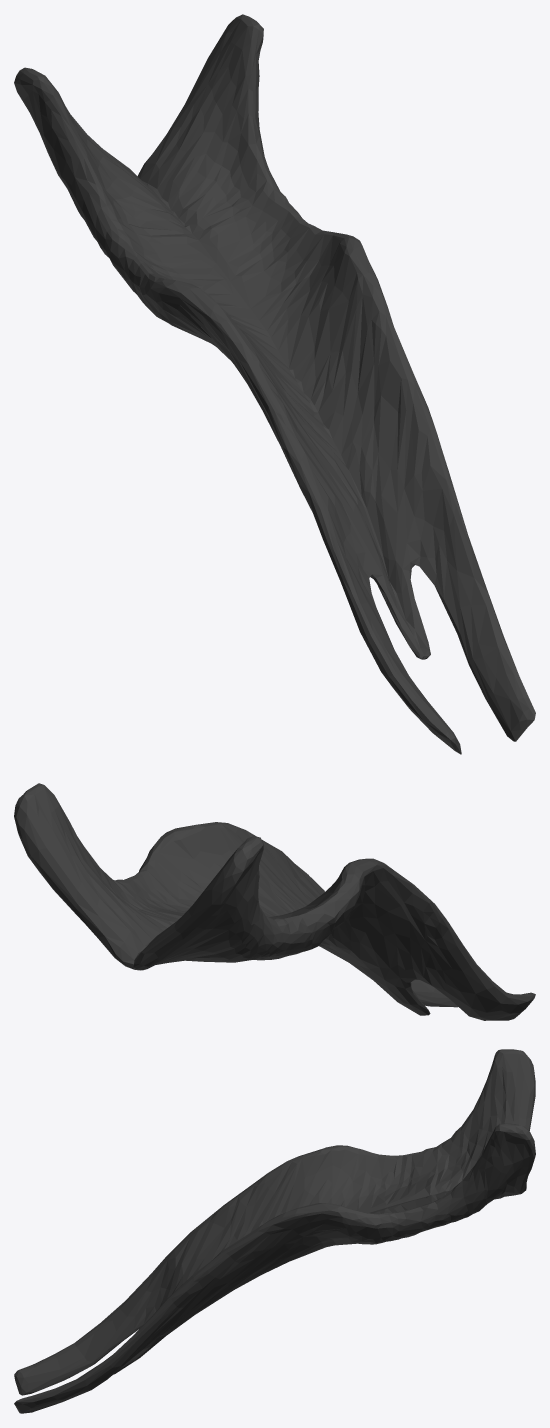
The model's file is m_rhomboideus.glb.
The picture shows the model from 3 angles, top to bottom: view 1: azimuth 30°, elevation 25°; view 2: azimuth 150°, elevation 25°; view 3: azimuth 270°, elevation 25°; orthographic projection. The views are drawn at different scales.
Parts seen in each view (by area): view 1: m_rhomboideus; view 2: m_rhomboideus; view 3: m_rhomboideus.
Boxes of the visible parts, left/top/right/bottom form: m_rhomboideus: left=14, top=14, right=535, bottom=754; m_rhomboideus: left=14, top=783, right=535, bottom=1020; m_rhomboideus: left=14, top=1049, right=535, bottom=1413.
Bounding box in the file's own units: 0.00249 × 0.00458 × 0.00682.
1 material, 1 textured.
